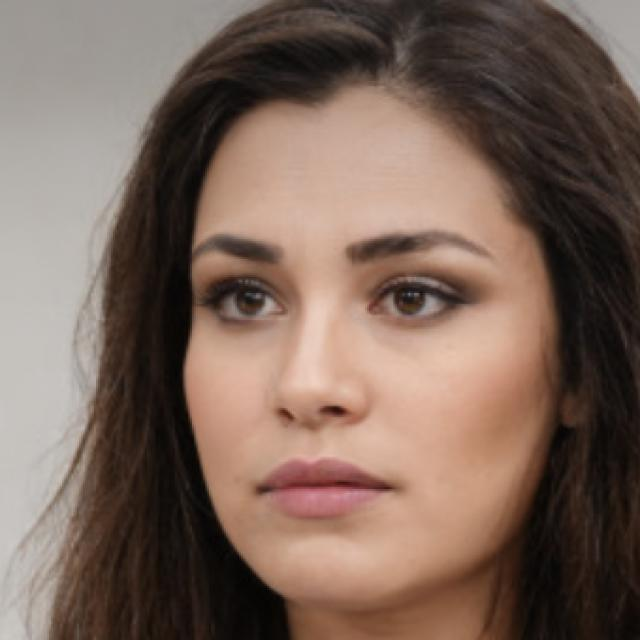natural: (85, 18, 617, 609)
